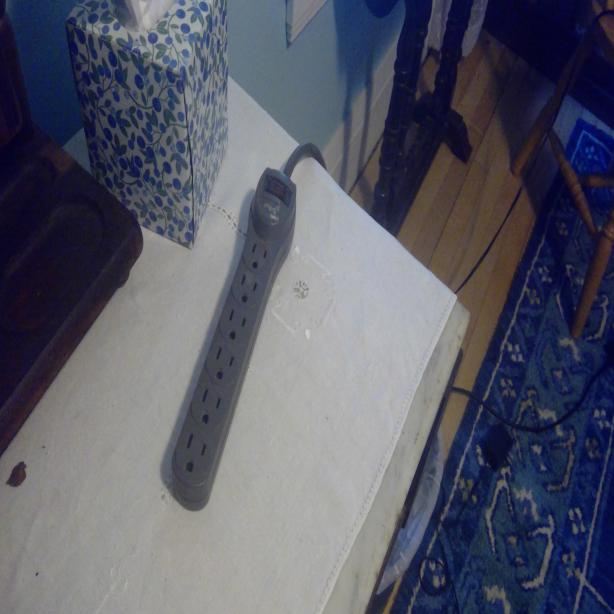typeb: (182, 429, 209, 474), (196, 386, 222, 423), (211, 346, 237, 381), (244, 239, 271, 272), (223, 304, 247, 341), (236, 272, 260, 305)
